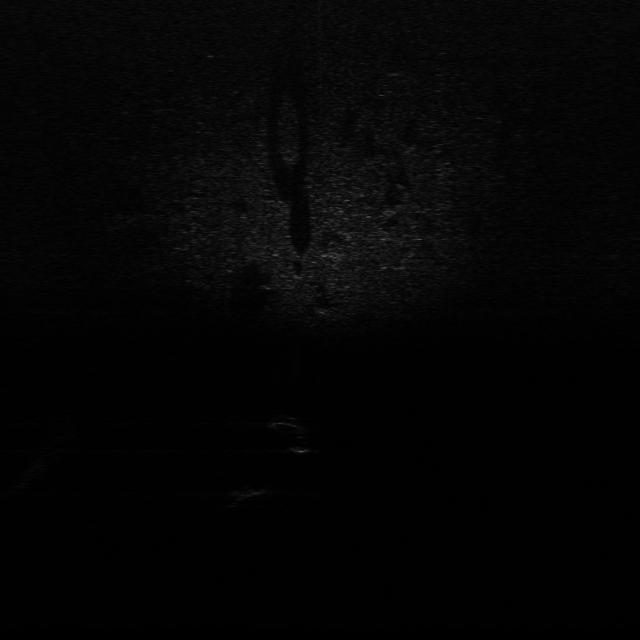ball: (288, 444, 318, 456)
square cage: (233, 482, 291, 502)
tyre: (271, 413, 308, 436)
